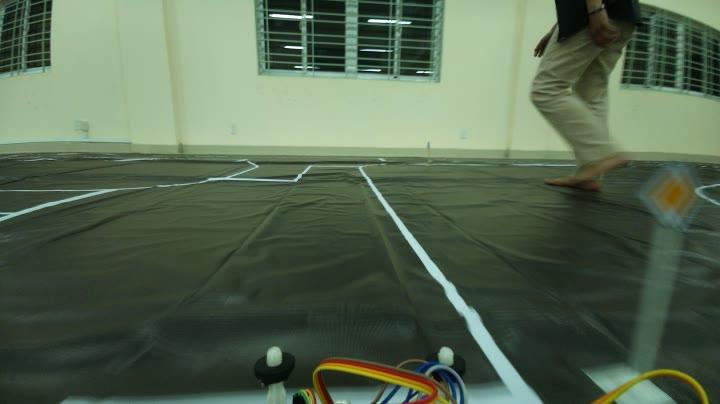priority: (646, 170, 700, 226)
